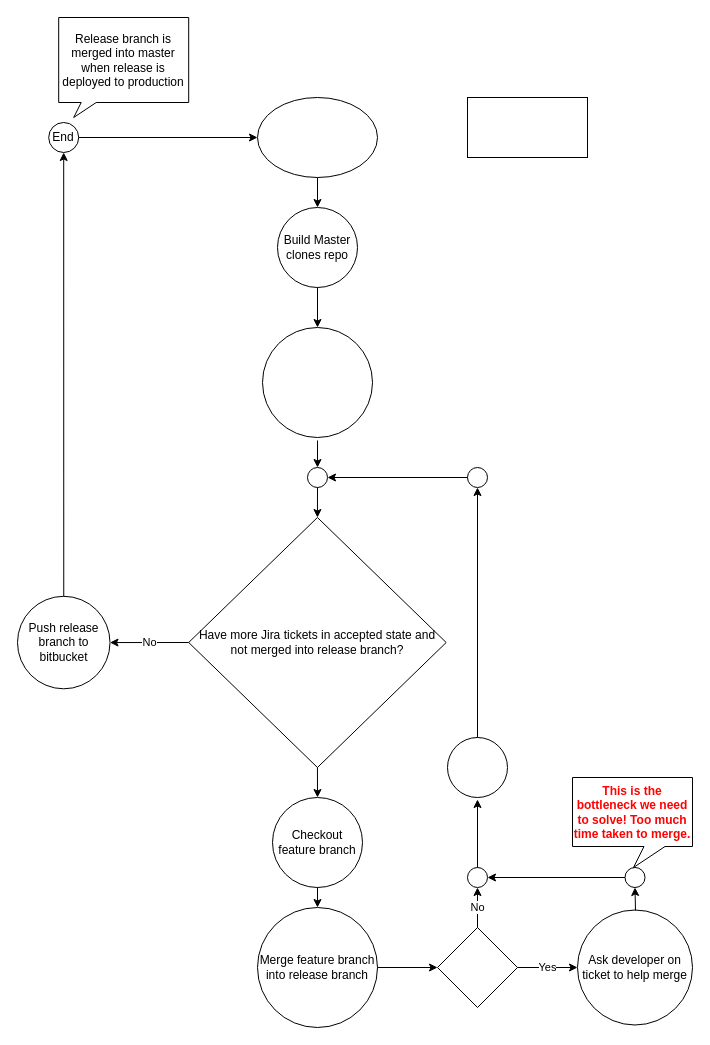
The diagram is 710 pixels wide and 1045 high, and some of its shapes have lost their labels. Each missing label, with the centre of its shape:
"bitbucket git server" goes at pixel 317 137.
"Build Master Workflow" goes at pixel 527 127.
"Creates release branch based off of master at end of sprint" goes at pixel 317 382.
"Merge conflict?" goes at pixel 477 967.
"Merge finished" goes at pixel 477 767.
